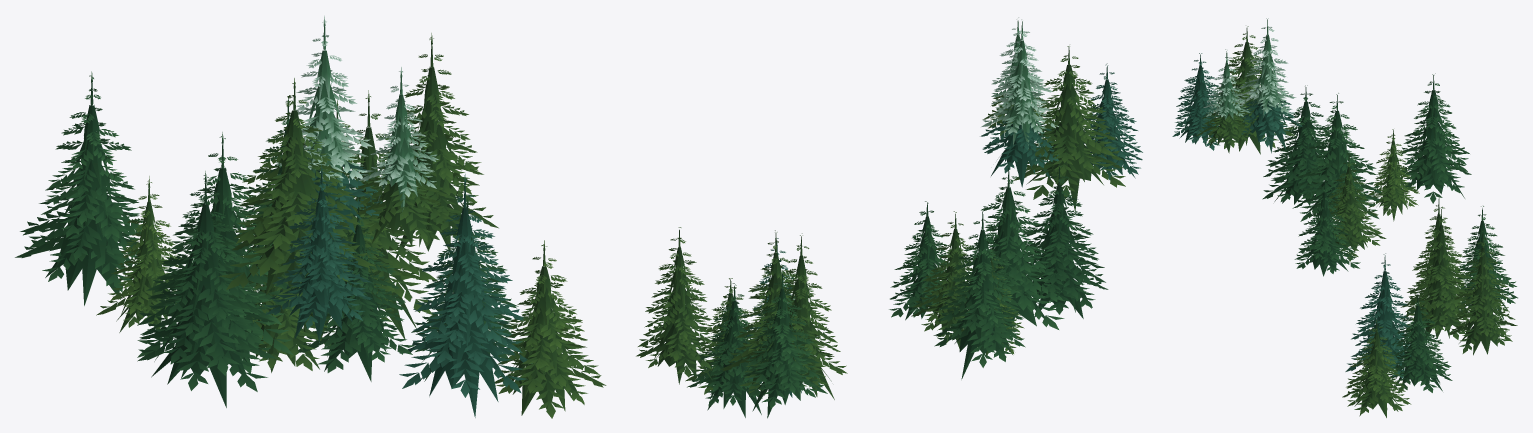
3 views of the same model, side by side, from view 1: azimuth 30°, elevation 25°; view 2: azimuth 150°, elevation 25°; view 3: azimuth 270°, elevation 25° (orthographic). The views are drawn at different scales.
Parts seen in each view (by area): view 1: pn_11; view 2: pn_11; view 3: pn_11.
Part boxes in pixels (box(x1,y1,x2,y2)): pn_11: box(15, 15, 606, 418); pn_11: box(636, 17, 1142, 418); pn_11: box(1172, 18, 1517, 417).
Bounding box in the file's own units: 38.61 × 38.6 × 39.47.
Materials: 1 (1 with a texture image).
